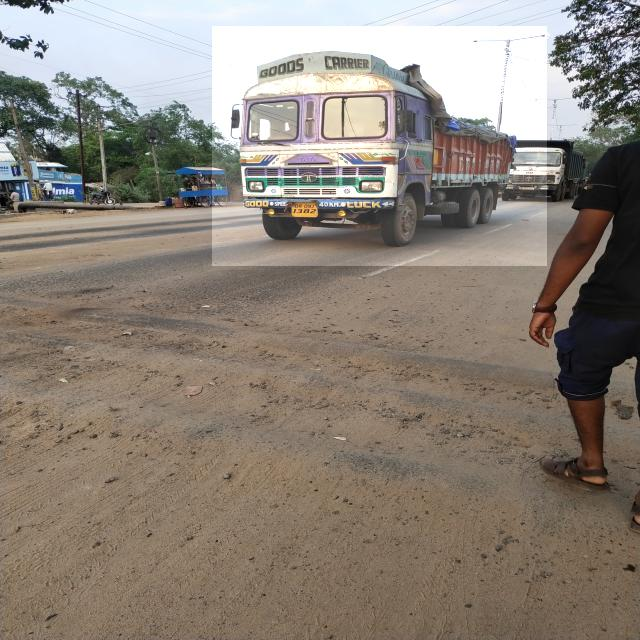Truck: (212, 27, 547, 266)
